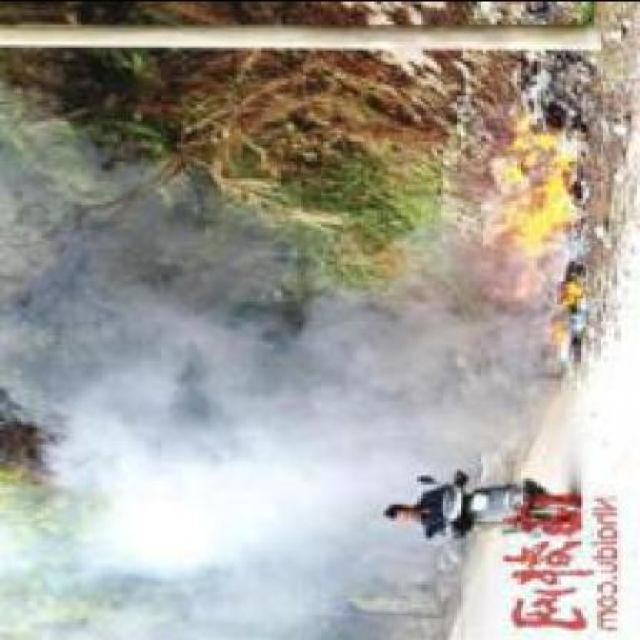Fire: (498, 119, 583, 253)
Smoke: (0, 99, 498, 640)
